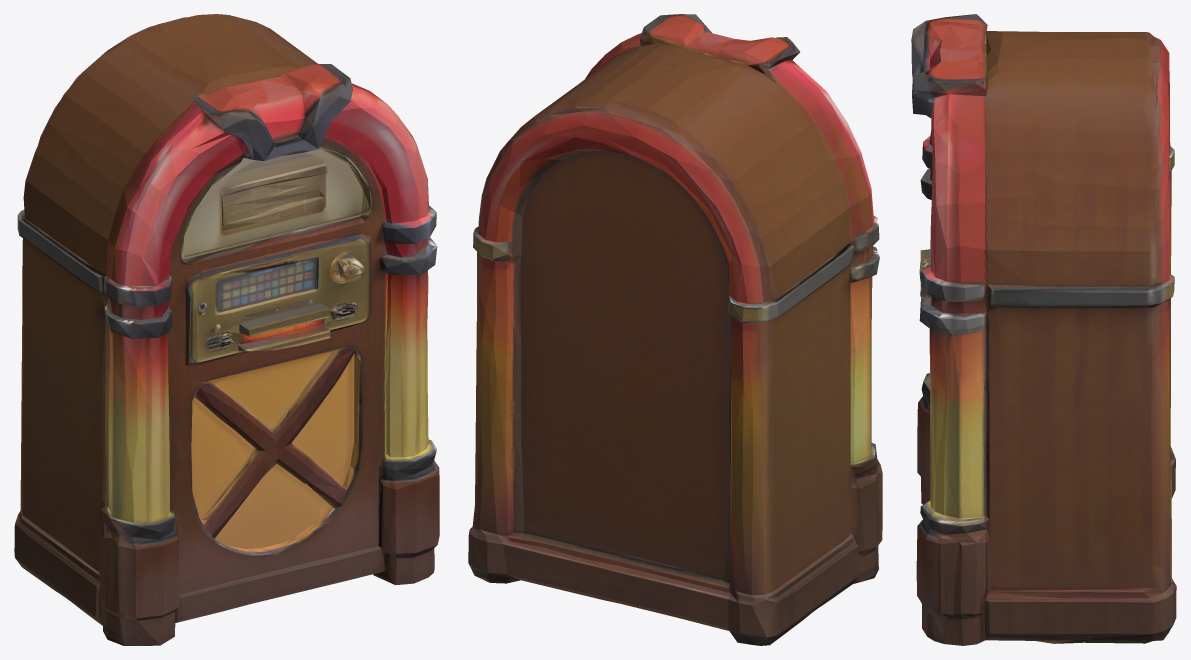
Rendered from Retro_Jukebox_0618215144_texture.fbx.
3 views of the same model, side by side, from view 1: azimuth 30°, elevation 25°; view 2: azimuth 150°, elevation 25°; view 3: azimuth 270°, elevation 25° (orthographic). The views are drawn at different scales.
Parts seen in each view (by area): view 1: temp; view 2: temp; view 3: temp.
Boxes of the visible parts, left/top/right/bottom form: temp: left=14, top=14, right=439, bottom=645; temp: left=468, top=14, right=882, bottom=645; temp: left=911, top=14, right=1176, bottom=645.
Size of the model in its own units: 133 by 201 by 92.19.
1 material, 1 textured.
